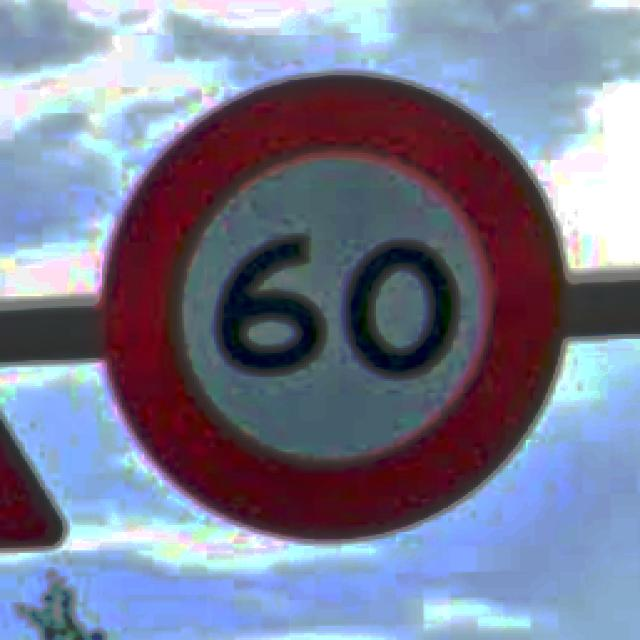max60: (92, 68, 568, 541)
